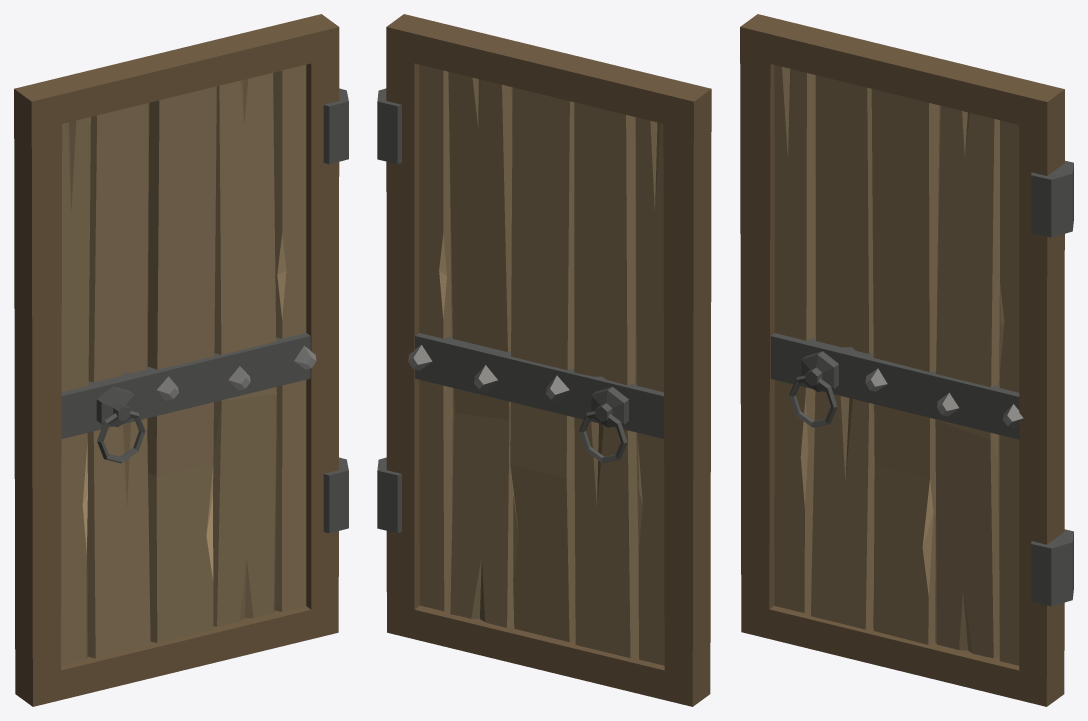
The model's file is rpgpp_ag_door_gate_03_right.fbx.
3 views of the same model, side by side, from view 1: azimuth 30°, elevation 25°; view 2: azimuth 150°, elevation 25°; view 3: azimuth 330°, elevation 25° (orthographic).
Parts seen in each view (by area): view 1: rpgpp_ag_door_gate_03_right; view 2: rpgpp_ag_door_gate_03_right; view 3: rpgpp_ag_door_gate_03_right.
Part boxes in pixels (left/top/right/bottom): rpgpp_ag_door_gate_03_right: left=14, top=14, right=348, bottom=706; rpgpp_ag_door_gate_03_right: left=377, top=14, right=711, bottom=706; rpgpp_ag_door_gate_03_right: left=740, top=14, right=1073, bottom=706.
Size of the model in its own units: 2.08 by 3.72 by 0.4371.
